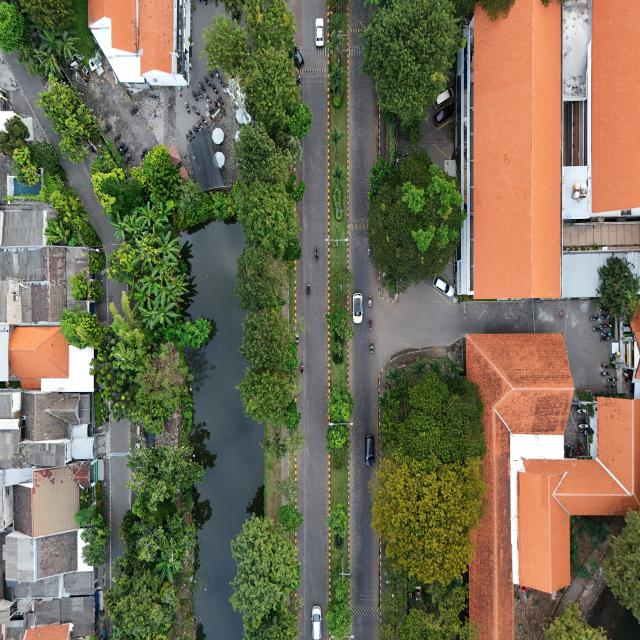Tree: (324, 302, 354, 340), (326, 386, 355, 422), (325, 502, 348, 538), (259, 430, 286, 458), (278, 503, 304, 532), (402, 180, 425, 212), (330, 264, 353, 296), (325, 424, 349, 453), (411, 222, 434, 252), (283, 399, 303, 430), (328, 64, 347, 91), (278, 478, 300, 501), (284, 432, 306, 454), (330, 163, 348, 189), (74, 506, 95, 526), (432, 174, 450, 195), (327, 128, 345, 148), (436, 221, 449, 248), (333, 341, 347, 357), (92, 513, 104, 526), (449, 227, 458, 242)
